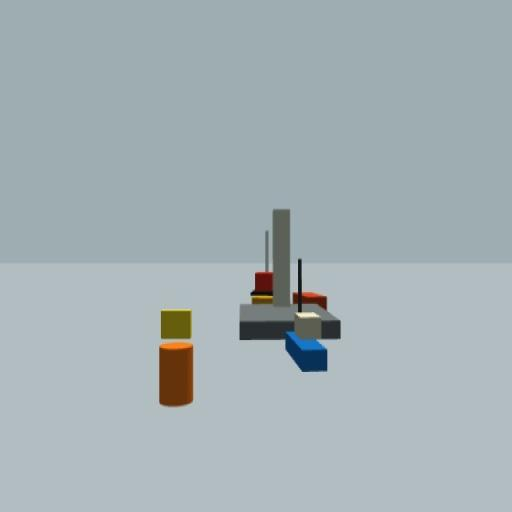buoy: (159, 308, 193, 406)
fishing_boat: (284, 259, 328, 373)
platform: (239, 208, 341, 342)
